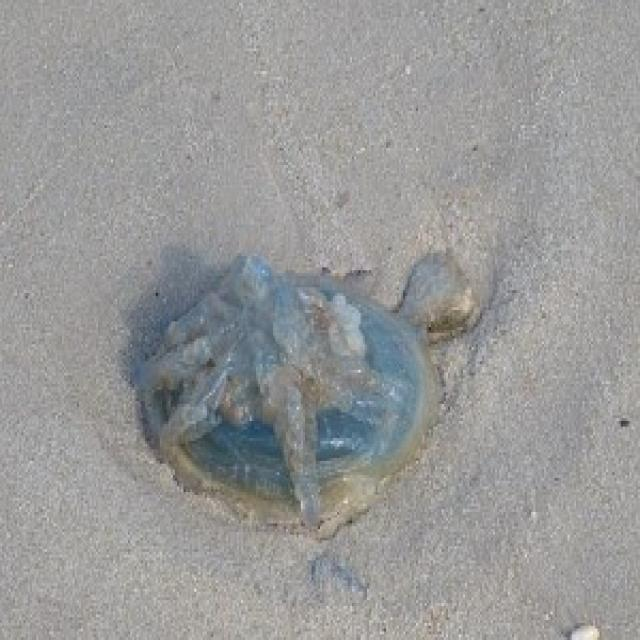Jellyfish: (136, 234, 487, 532)
